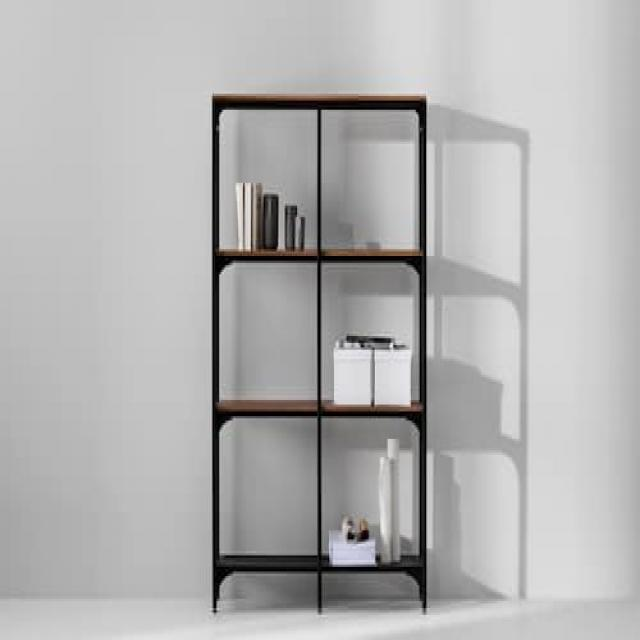Shelf: (208, 82, 434, 618)
